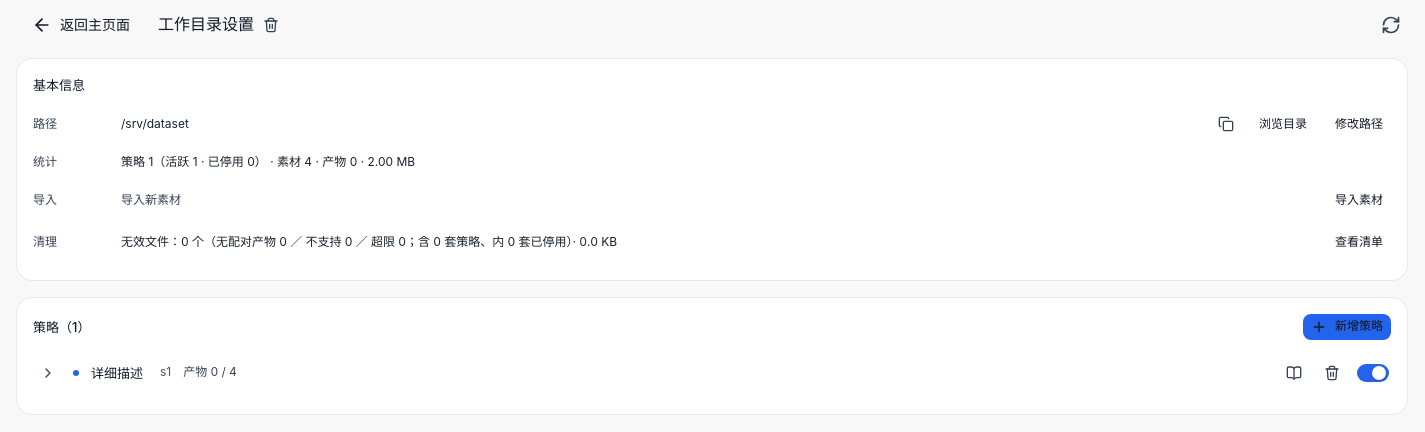
it: 取消就地改名不写盘
Click the button with aria-label "改名策略 详细描述" at (117, 373), box [86,361,148,385]
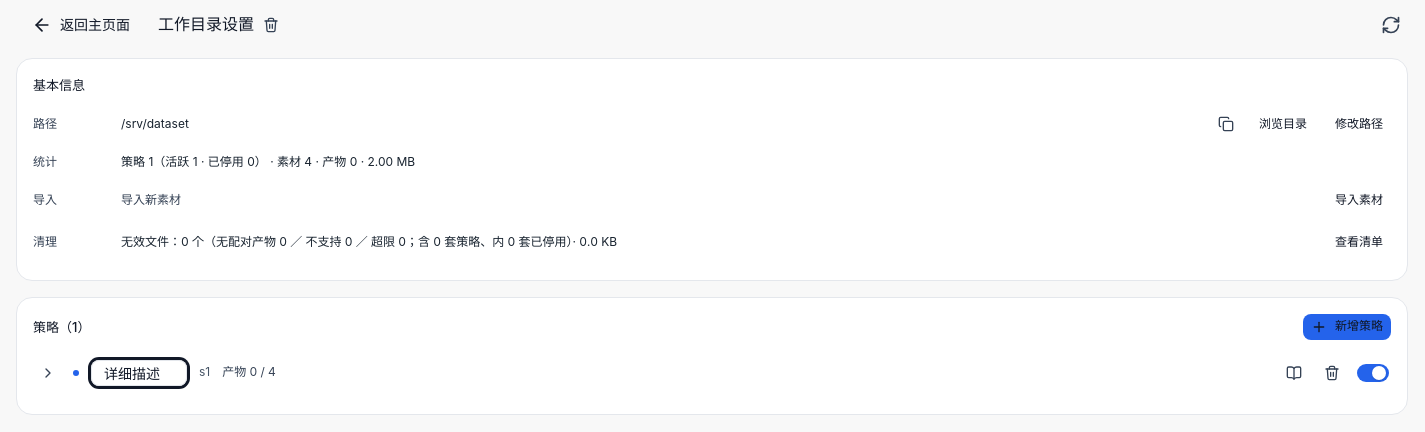
Replace the text in the field named "策略名称 s1" with "未提交" at (139, 373), box [91,360,187,386]
Then press Escape
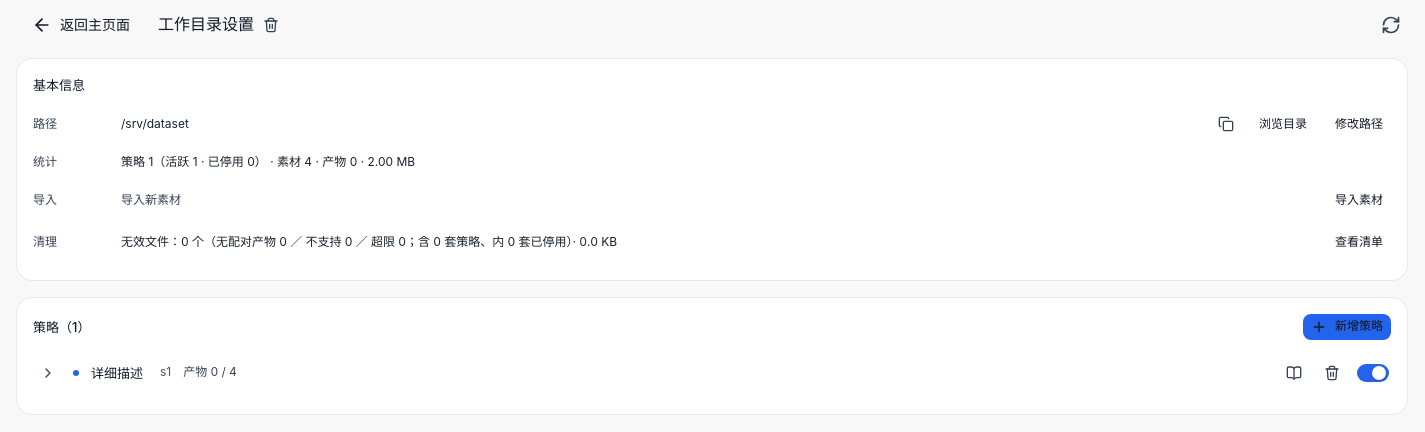
expect the button with aria-label "改名策略 详细描述" is shown: met, box [86,361,148,385]
